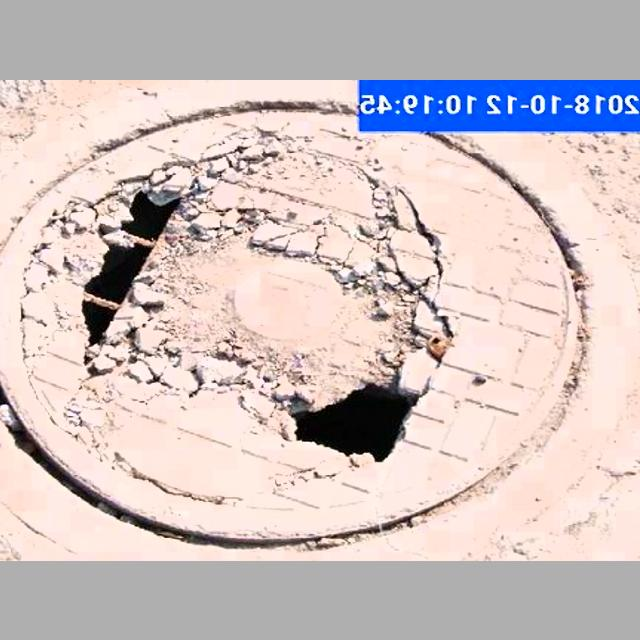broke: (0, 112, 603, 535)
